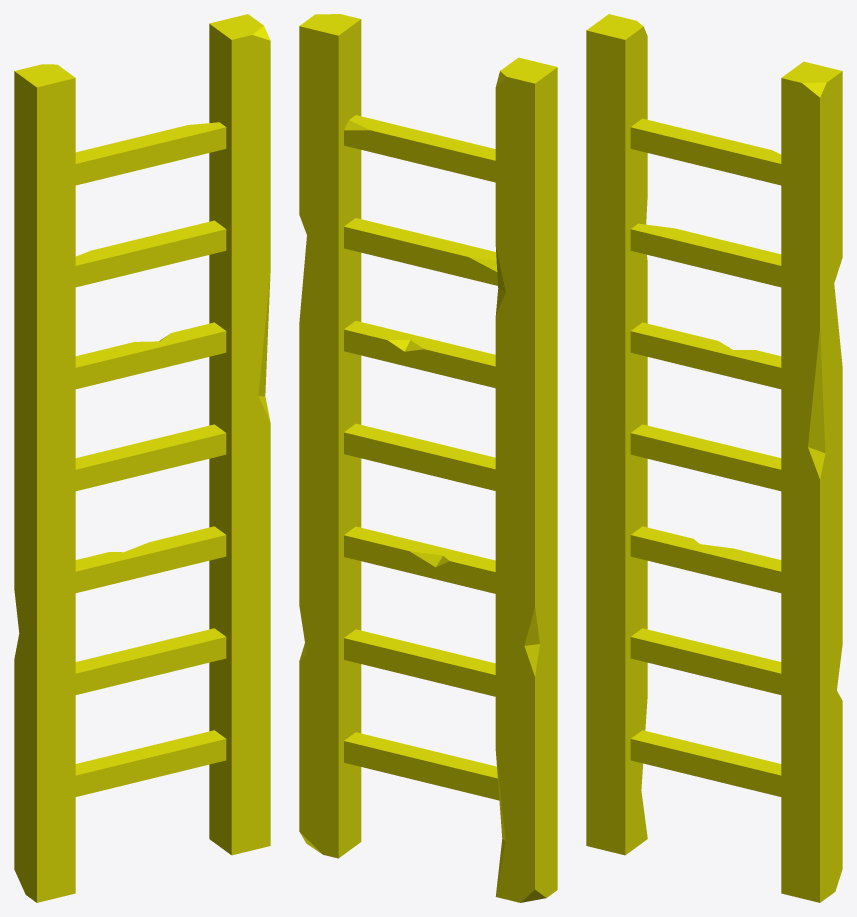
Rendered from SM_PolygonPrototype_Prop_Ladder_1x2_01P.glb.
3 views of the same model, side by side, from view 1: azimuth 30°, elevation 25°; view 2: azimuth 150°, elevation 25°; view 3: azimuth 330°, elevation 25° (orthographic).
Parts seen in each view (by area): view 1: SM_PolygonPrototype_Prop_Ladder_1x2_01P; view 2: SM_PolygonPrototype_Prop_Ladder_1x2_01P; view 3: SM_PolygonPrototype_Prop_Ladder_1x2_01P.
Part boxes in pixels (bbox=[...]): SM_PolygonPrototype_Prop_Ladder_1x2_01P: bbox=[14, 14, 270, 902]; SM_PolygonPrototype_Prop_Ladder_1x2_01P: bbox=[299, 14, 557, 902]; SM_PolygonPrototype_Prop_Ladder_1x2_01P: bbox=[586, 14, 842, 902].
Size of the model in its own units: 0.6 by 2 by 0.1.
Materials: 1 (1 with a texture image).
